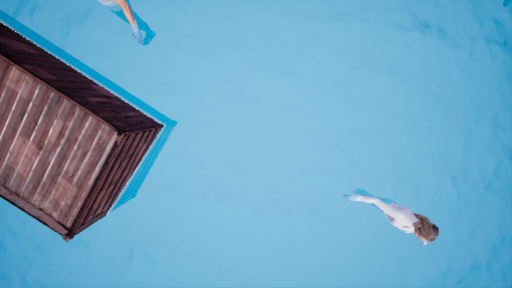person: (353, 187, 439, 249)
